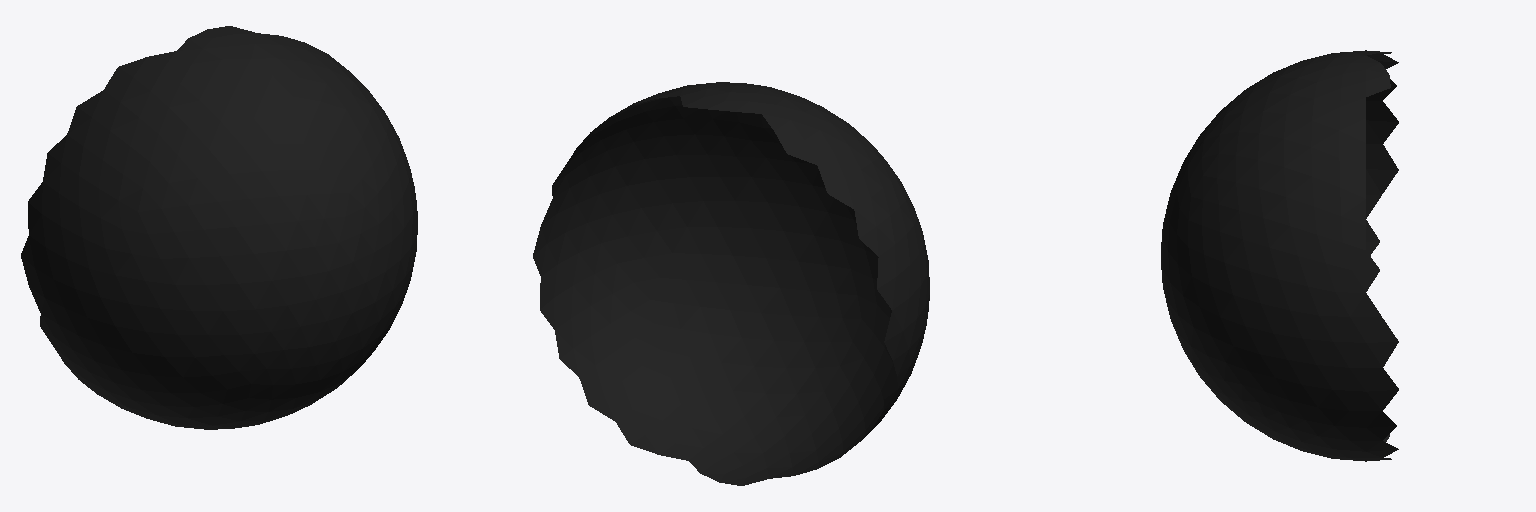
The model's file is shell.obj.
The picture shows the model from 3 angles: view 1: azimuth 30°, elevation 25°; view 2: azimuth 150°, elevation 25°; view 3: azimuth 270°, elevation 25°; orthographic projection.
Visible parts, largest first — view 1: Icosphere_Shell; view 2: Icosphere_Shell; view 3: Icosphere_Shell.
Boxes of the visible parts, <box> form: Icosphere_Shell: <box>21,26,417,429</box>; Icosphere_Shell: <box>533,82,929,485</box>; Icosphere_Shell: <box>1161,50,1398,461</box>.
Size of the model in its own units: 2 by 2 by 1.16.